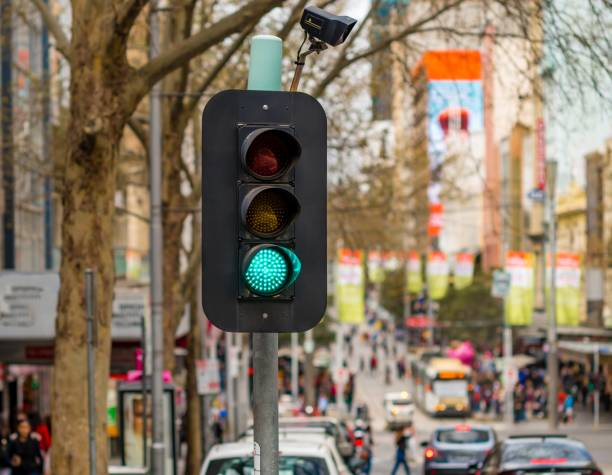trafficlight: (235, 118, 297, 309)
